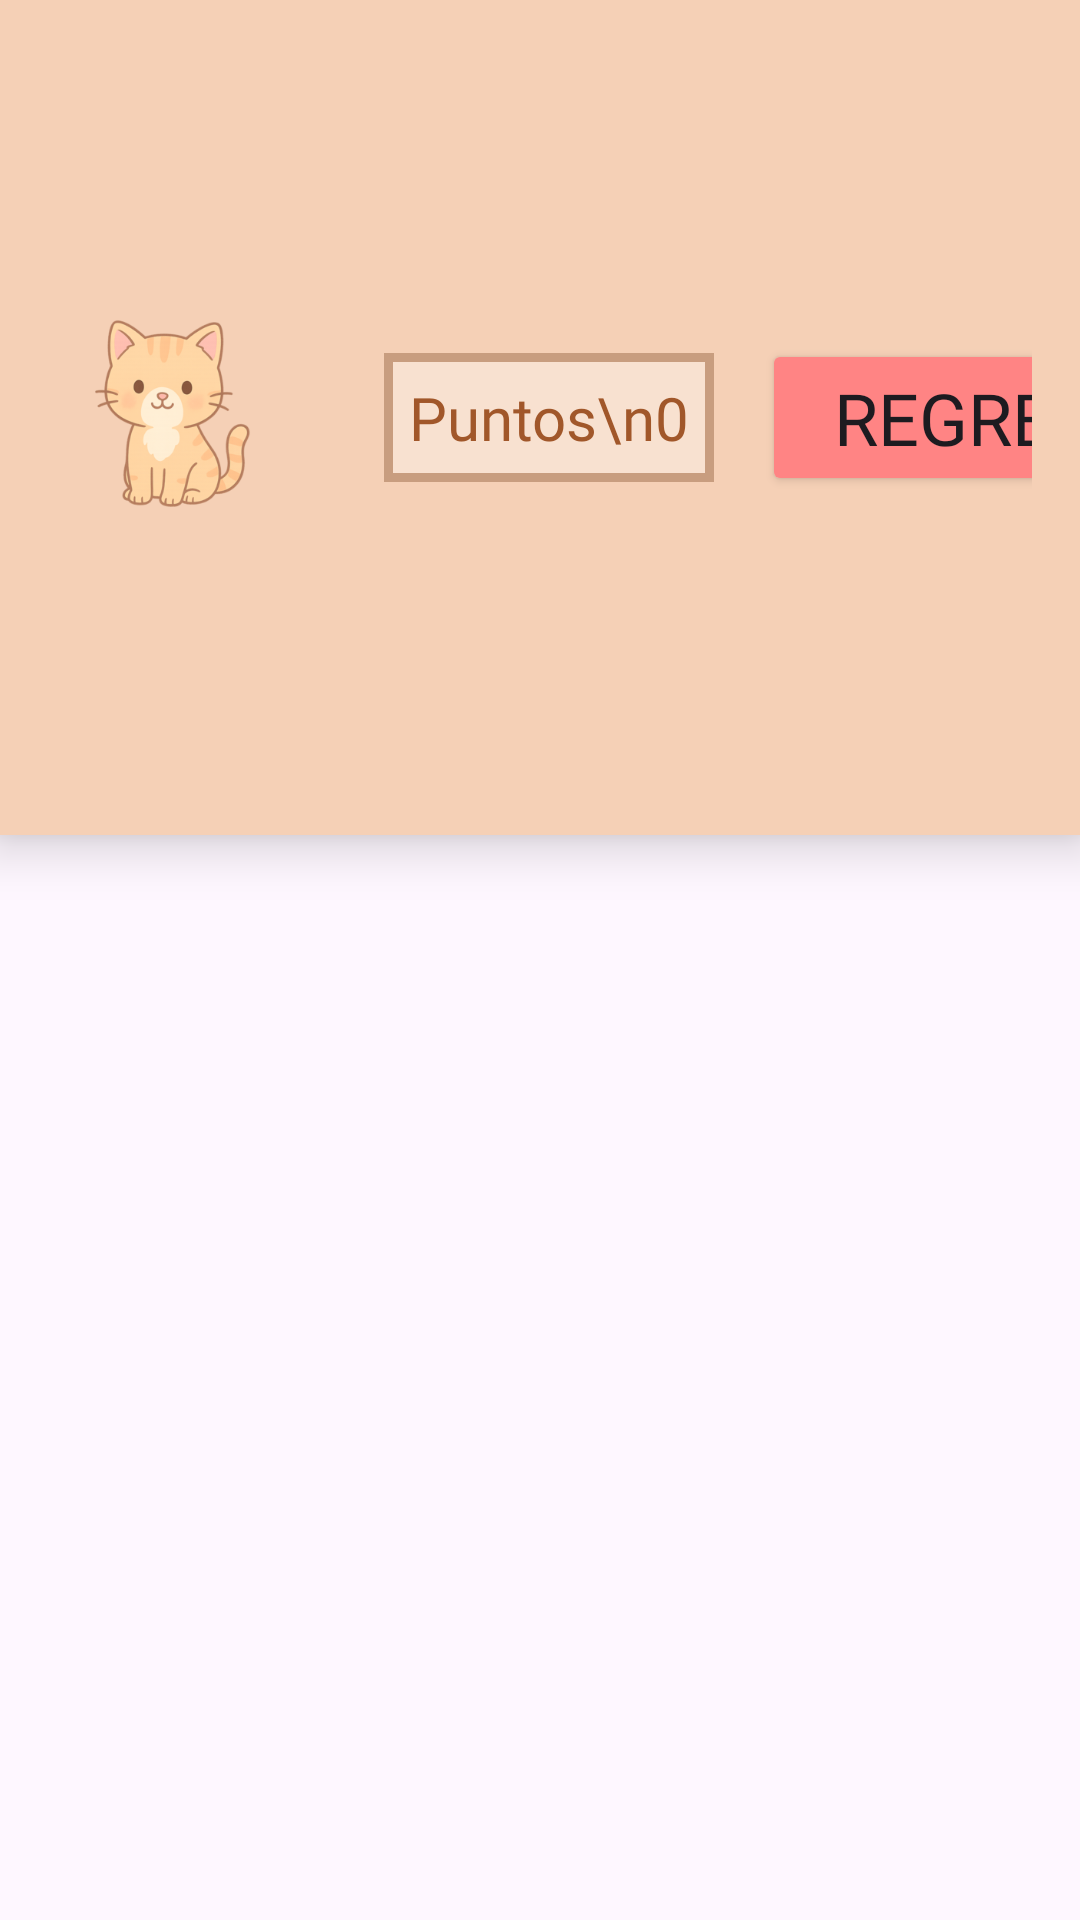

Where icons sit on this 1080x1920 app screen, as (x1, y1, x2, y2):
gato: (95, 320, 250, 507)
